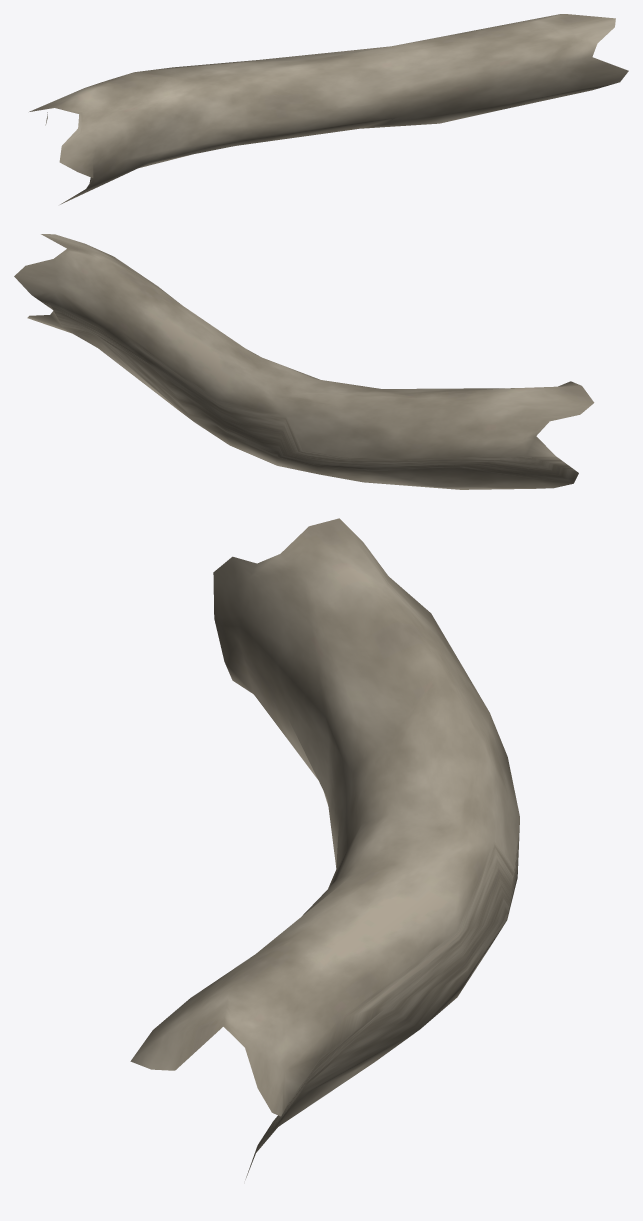
Rendered from driftwood_01_lod1.glb.
3 renders of one model, top to bottom at view 1: azimuth 30°, elevation 25°; view 2: azimuth 150°, elevation 25°; view 3: azimuth 270°, elevation 25°, orthographic. The views are drawn at different scales.
Parts seen in each view (by area): view 1: Driftwood_01.001; view 2: Driftwood_01.001; view 3: Driftwood_01.001.
Part boxes in pixels (x1,y1,x2,y2): Driftwood_01.001: (29,14,628,204); Driftwood_01.001: (14,234,594,489); Driftwood_01.001: (130,518,519,1179).
Bounding box in the file's own units: 1.71 × 0.2898 × 0.5393.
Materials: 1 (1 with a texture image).
